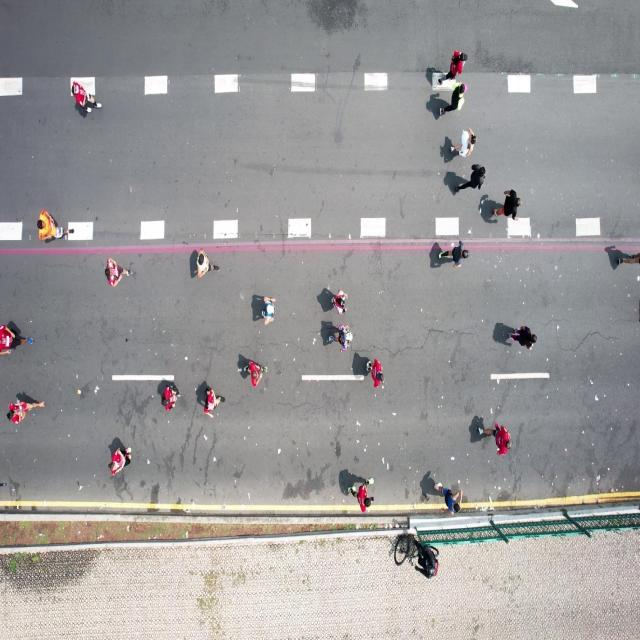Cycle: (393, 535, 440, 579)
